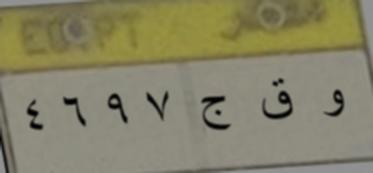4: (19, 93, 48, 138)
6: (58, 89, 90, 135)
7: (142, 82, 174, 128)
9: (100, 84, 130, 130)
jeem: (197, 89, 233, 139)
qaaf: (255, 74, 298, 130)
waw: (322, 86, 346, 123)
